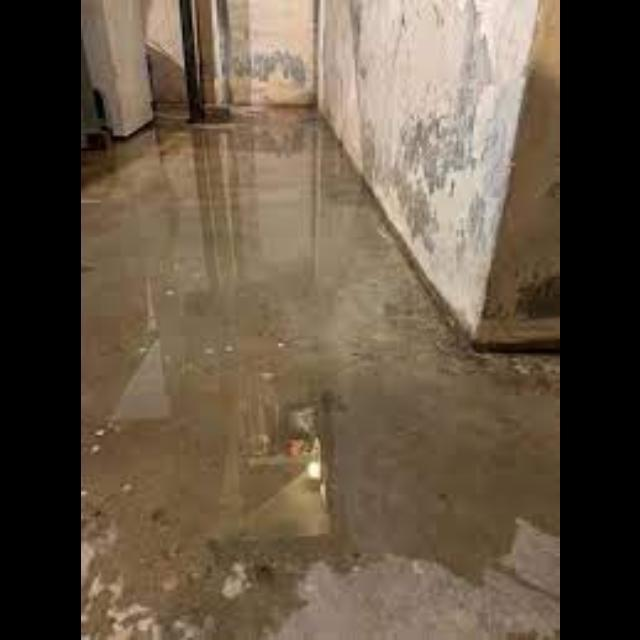water accumulation: (81, 102, 556, 638)
